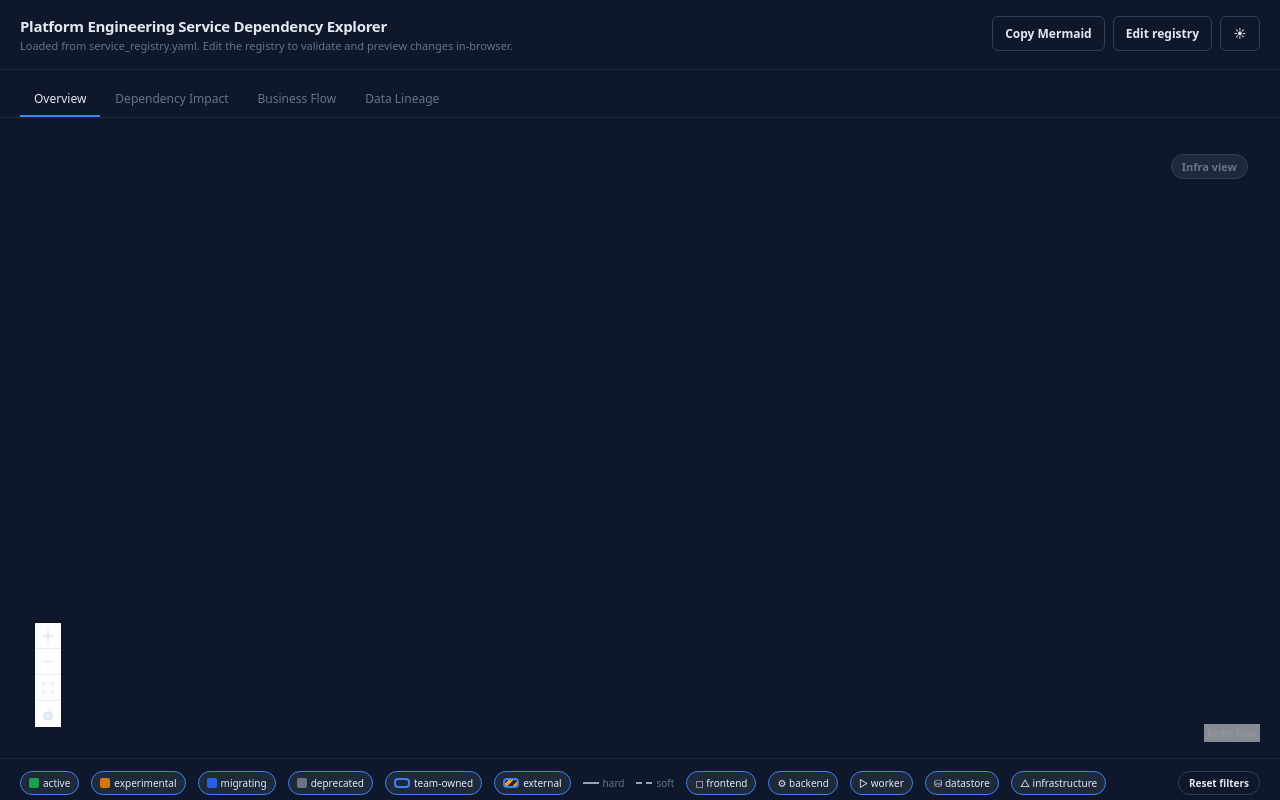
Test: CatalogView › renders graph mode and allows switching tabs
Check: the button "Overview" is shown, box [20,82,100,117]
Check: the button "Business Flow" is shown, box [244,82,350,117]
Click the button "Dependency Impact": (172, 100) [101,82,243,117]
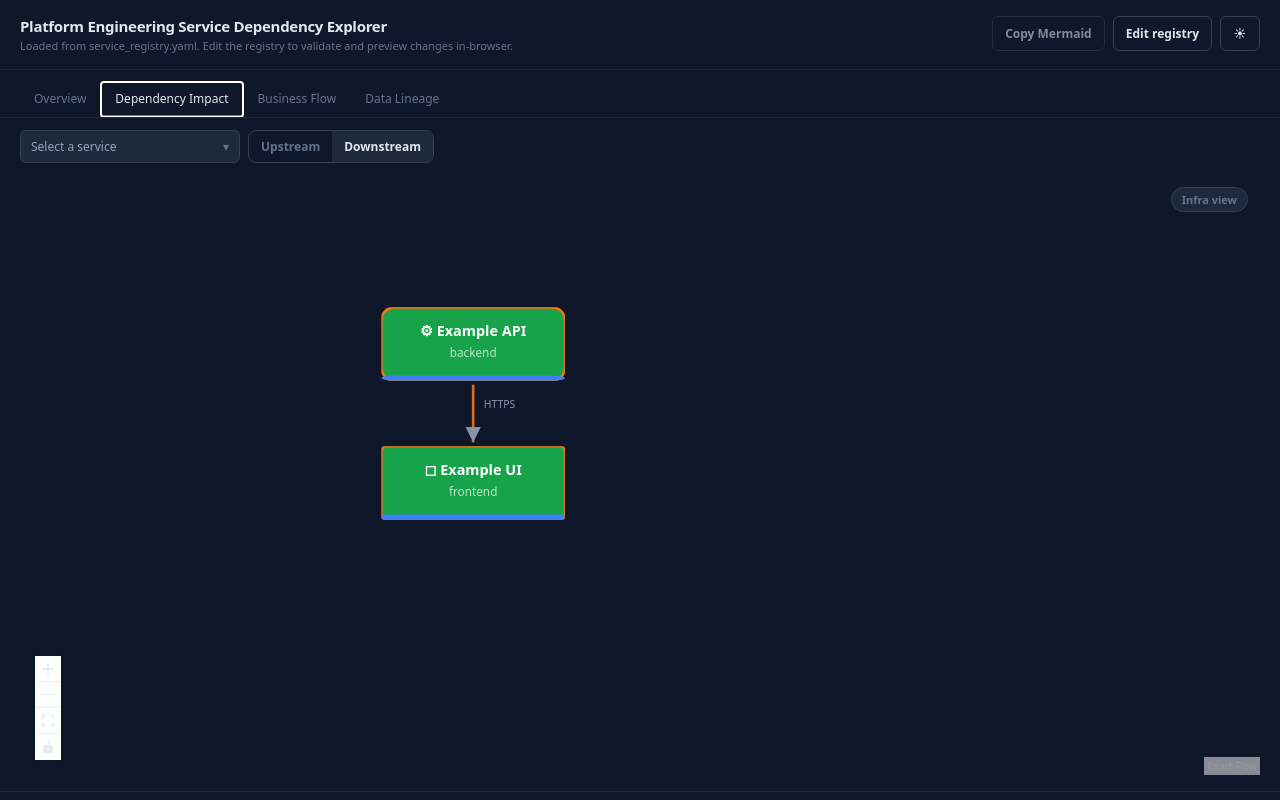
Check: the buttons read "Upstream", "Downstream", in this order
Click the button "Upstream": (291, 146) [249,131,332,162]
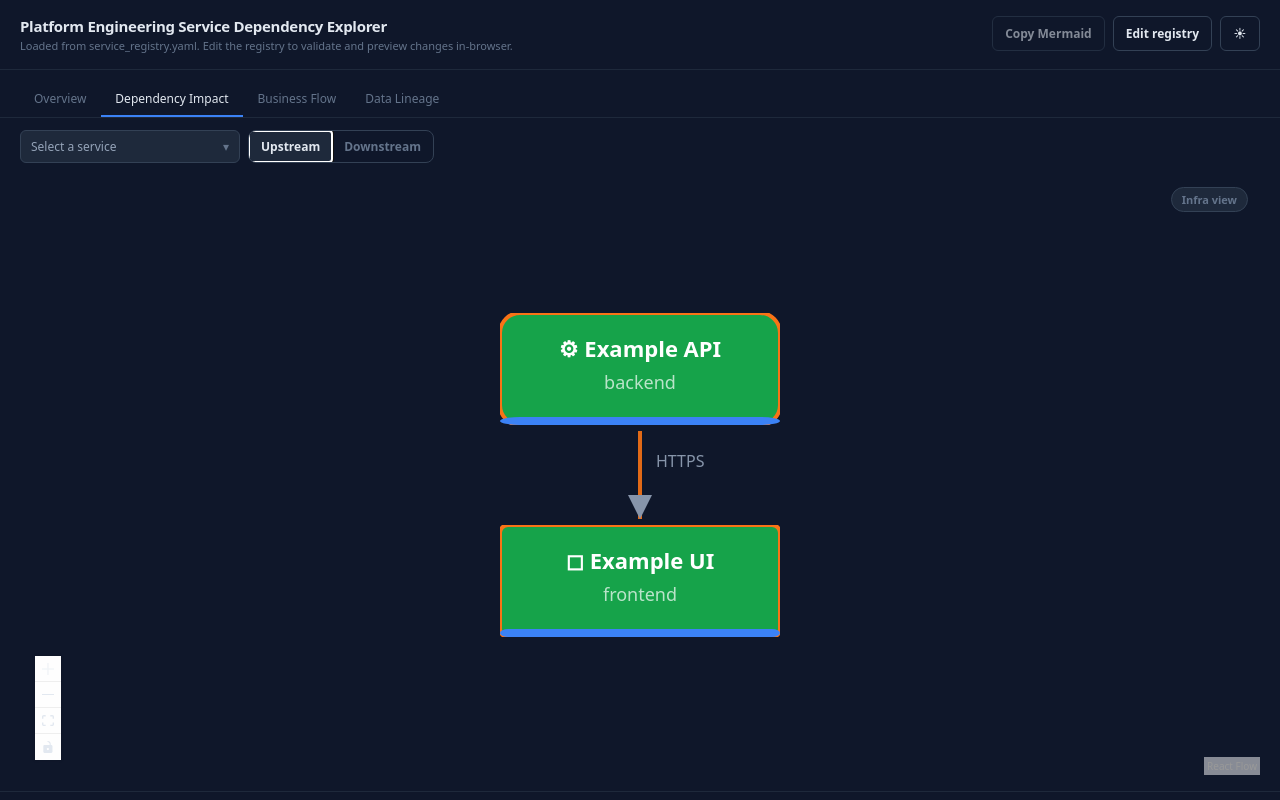
Click the button "Data Lineage": (402, 100) [351,82,453,117]
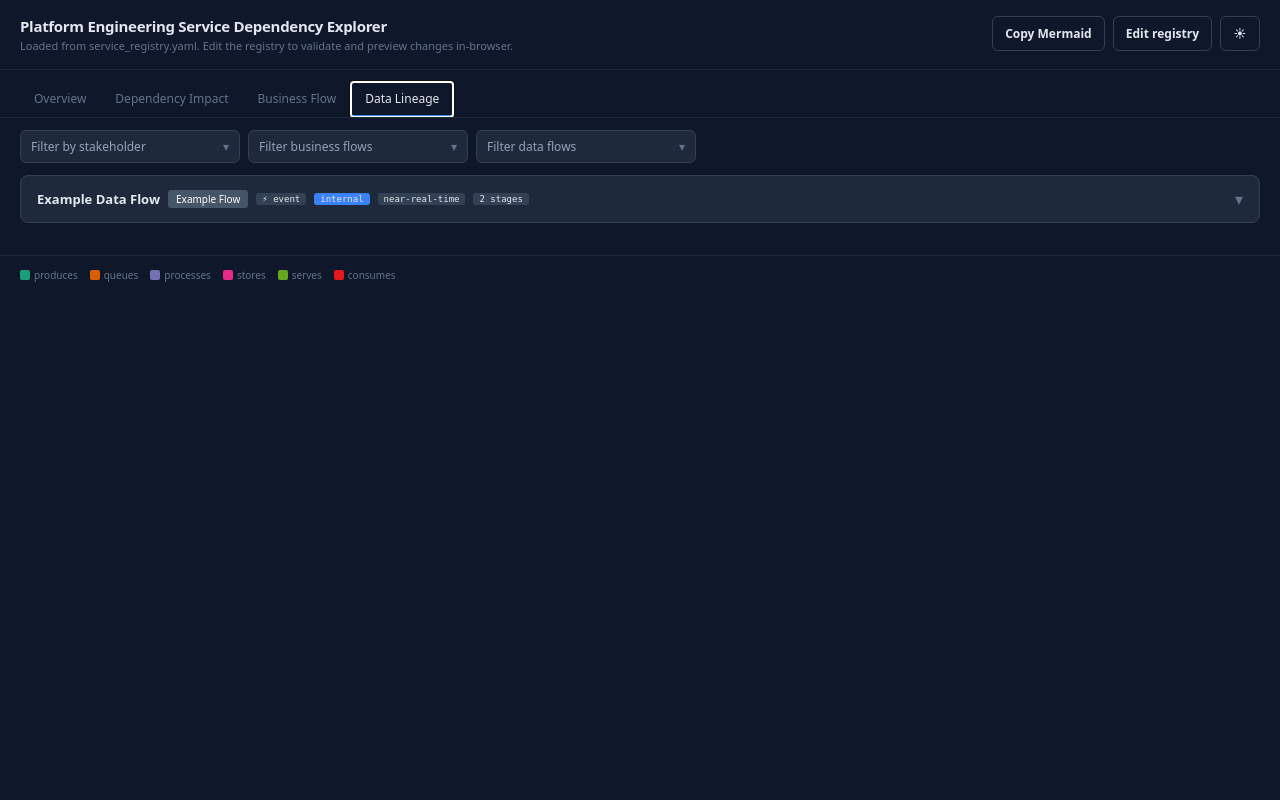
Check: the text "Example Data Flow" is shown, box [37,190,160,208]
